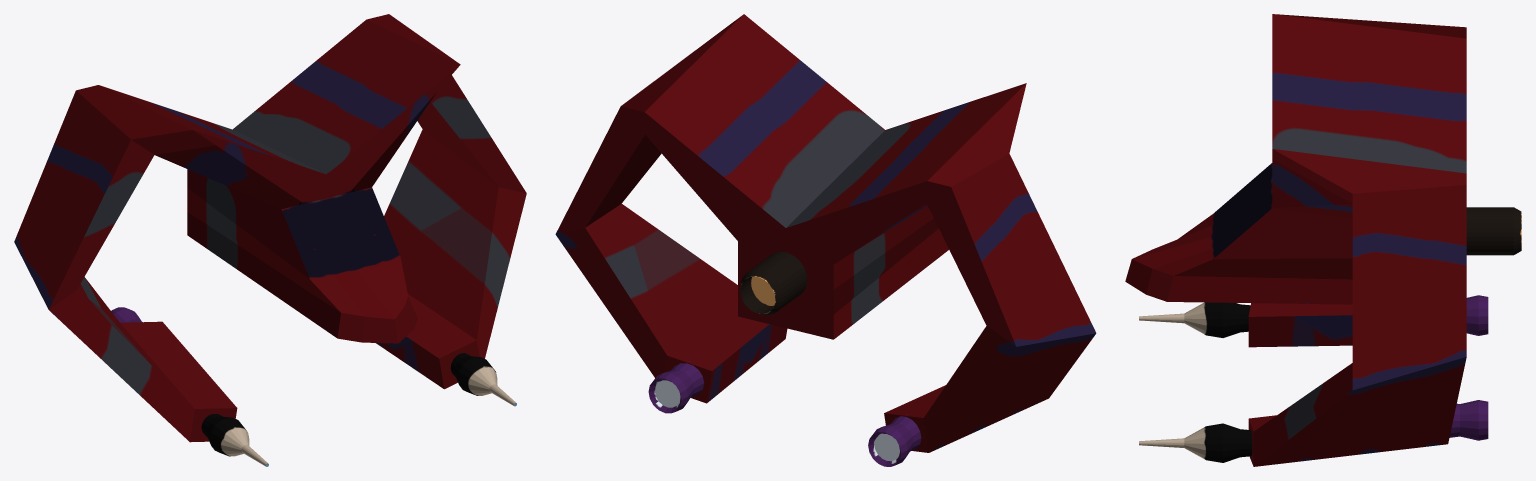
Rendered from NaveEnemigos.fbx.
The picture shows the model from 3 angles, left to right: view 1: azimuth 30°, elevation 25°; view 2: azimuth 150°, elevation 25°; view 3: azimuth 270°, elevation 25°; orthographic projection. The views are drawn at different scales.
Parts seen in each view (by area): view 1: Cube; view 2: Cube; view 3: Cube.
Part boxes in pixels (x1,y1,x2,y2): Cube: [14, 14, 526, 466]; Cube: [555, 14, 1096, 466]; Cube: [1125, 14, 1521, 466].
Bounding box in the file's own units: 10.56 × 6.53 × 7.36.
Materials: 4 (4 with a texture image).
